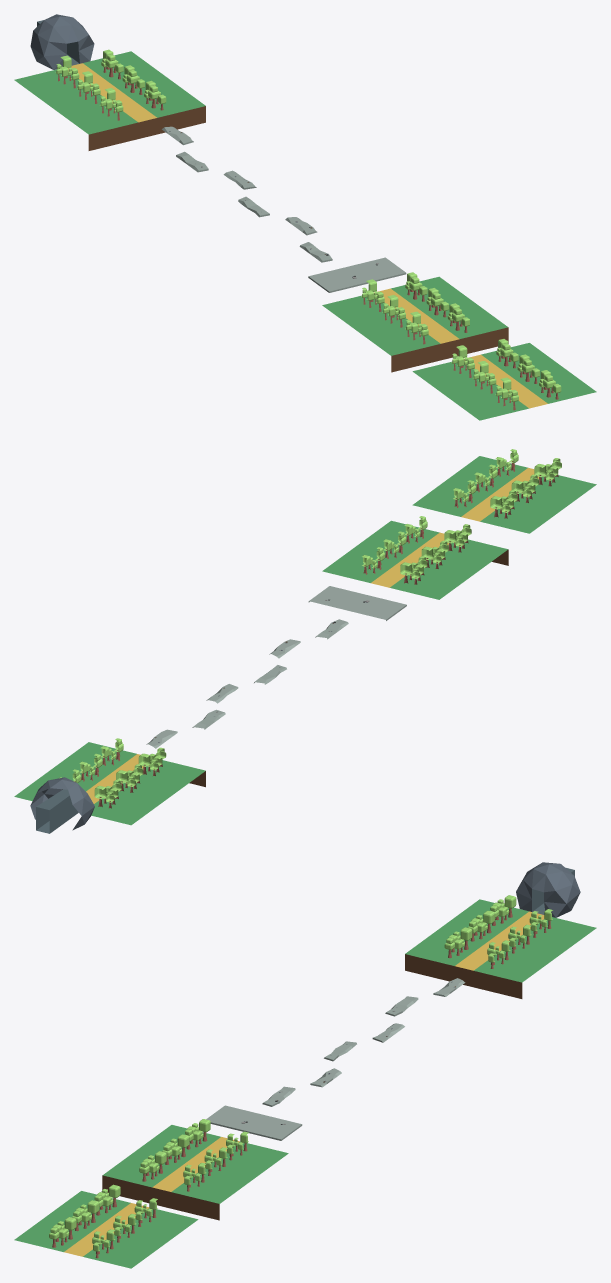
File: road1 1.fbx
3 renders of one model, top to bottom at view 1: azimuth 30°, elevation 25°; view 2: azimuth 150°, elevation 25°; view 3: azimuth 330°, elevation 25°, orthographic.
Parts seen in each view (by area): view 1: Plane.003, Plane.004, Деревья3.001, Plane.005, Вход в пещеру.002, Платформа 1.001, Начало платформы.001; view 2: Деревья3.001, Plane.004, Plane.005, Plane.003, Вход в пещеру.002, Платформа 1.001, Начало платформы.001; view 3: Plane.003, Plane.004, Деревья3.001, Plane.005, Вход в пещеру.002, Начало платформы.001, Платформа 1.001.
Boxes of the visible parts, <box> form: Plane.003: <box>14,51,205,150</box>; Plane.004: <box>322,276,508,372</box>; Деревья3.001: <box>55,49,561,410</box>; Plane.005: <box>412,343,596,420</box>; Вход в пещеру.002: <box>30,14,94,69</box>; Платформа 1.001: <box>162,126,332,262</box>; Начало платформы.001: <box>308,257,406,292</box>; Деревья3.001: <box>59,449,561,808</box>; Plane.004: <box>322,520,508,599</box>; Plane.005: <box>412,456,596,533</box>; Plane.003: <box>14,742,205,825</box>; Вход в пещеру.002: <box>30,777,94,833</box>; Платформа 1.001: <box>146,619,348,748</box>; Начало платформы.001: <box>308,586,406,620</box>; Plane.003: <box>405,899,596,998</box>; Plane.004: <box>102,1125,288,1220</box>; Деревья3.001: <box>49,895,552,1258</box>; Plane.005: <box>14,1191,198,1268</box>; Вход в пещеру.002: <box>516,862,580,917</box>; Начало платформы.001: <box>206,1105,302,1140</box>; Платформа 1.001: <box>262,978,465,1106</box>.
Size of the model in its own units: 34218 by 15875 by 250001.
